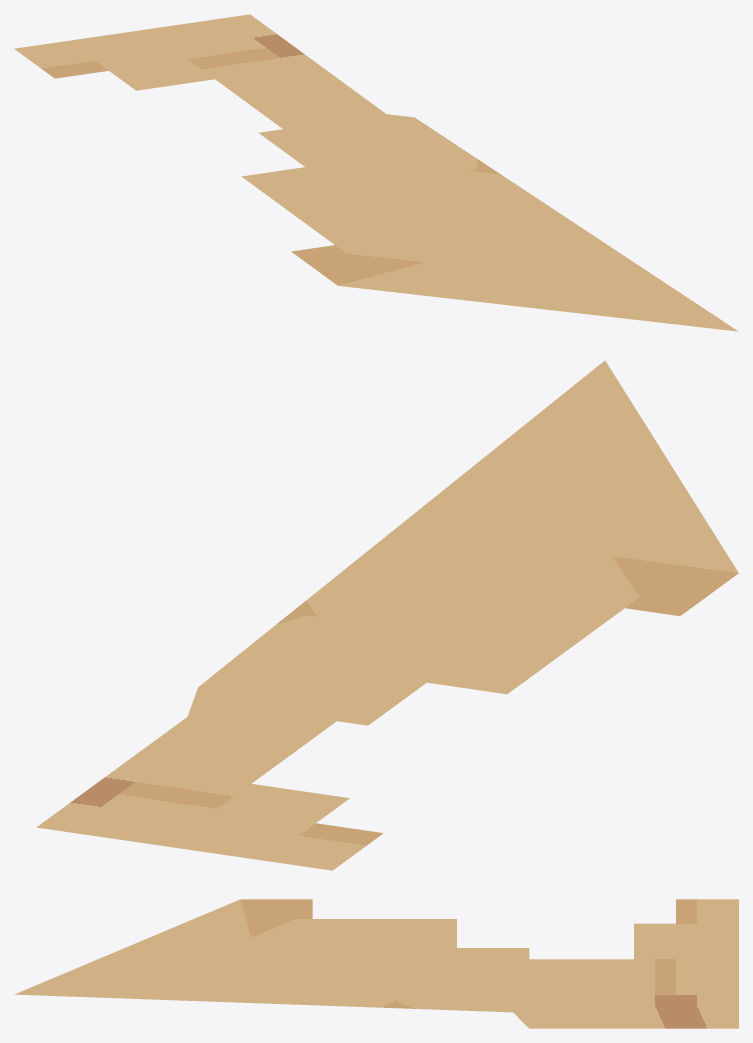
3 views of the same model, one above another, from view 1: azimuth 30°, elevation 25°; view 2: azimuth 150°, elevation 25°; view 3: azimuth 270°, elevation 25° (orthographic). The views are drawn at different scales.
Bounding box in the file's own units: 0.2236 × 0.0373 × 0.7187.
Materials: 1 (1 with a texture image).
